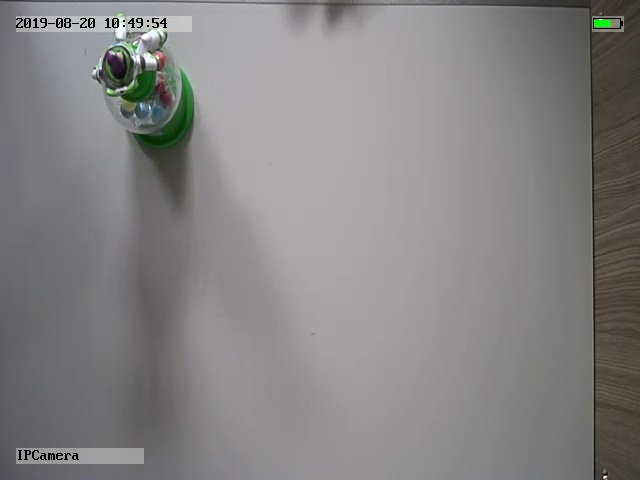buzz: (90, 14, 197, 144)
